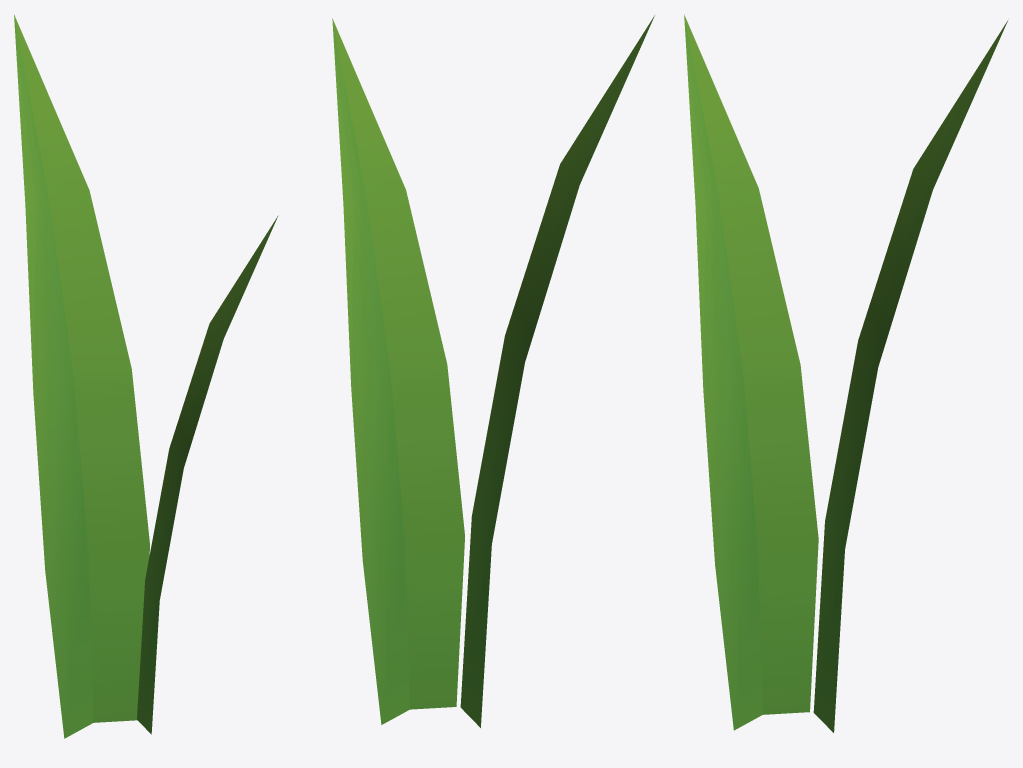
Rendered from grass_2_b_singlesided_color1.glb.
The picture shows the model from 3 angles, left to right: view 1: azimuth 30°, elevation 25°; view 2: azimuth 150°, elevation 25°; view 3: azimuth 270°, elevation 25°; orthographic projection. The views are drawn at different scales.
Parts seen in each view (by area): view 1: Grass_2_B_Singlesided_Color1; view 2: Grass_2_B_Singlesided_Color1; view 3: Grass_2_B_Singlesided_Color1.
Boxes of the visible parts, bbox=[...] form: Grass_2_B_Singlesided_Color1: bbox=[14, 14, 278, 738]; Grass_2_B_Singlesided_Color1: bbox=[332, 15, 654, 727]; Grass_2_B_Singlesided_Color1: bbox=[684, 14, 1007, 732].
Bounding box in the file's own units: 0.3841 × 0.9188 × 0.3783.
Materials: 1 (1 with a texture image).
